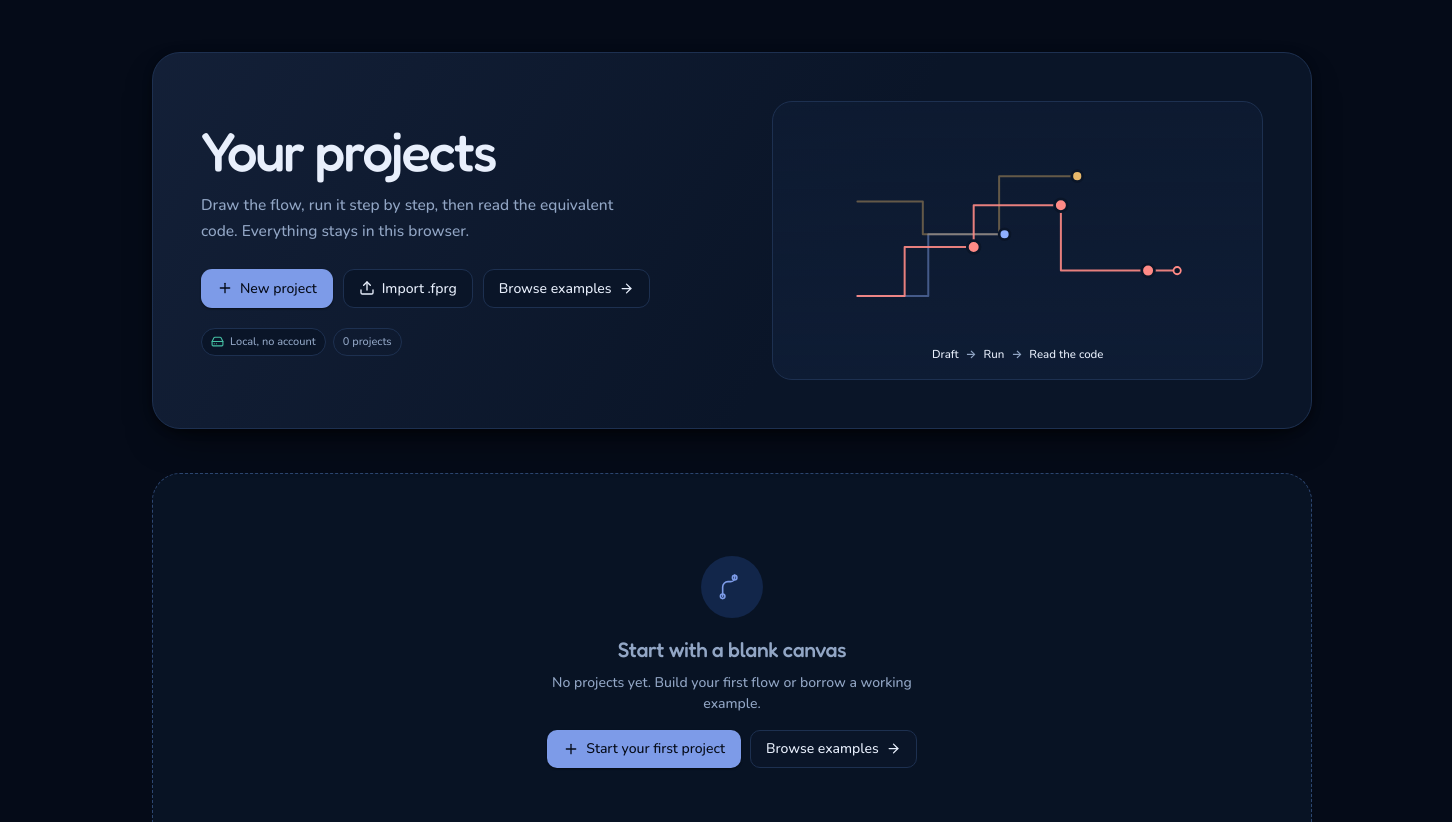
Test: shows an empty state and creates a project
This screenshot has width=1452, height=822.
Expected: the text "No projects yet" is shown, top-left (552, 673), bottom-right (912, 713)
Click the button "New project" at (267, 288), box top-left (201, 269), bottom-right (333, 308)
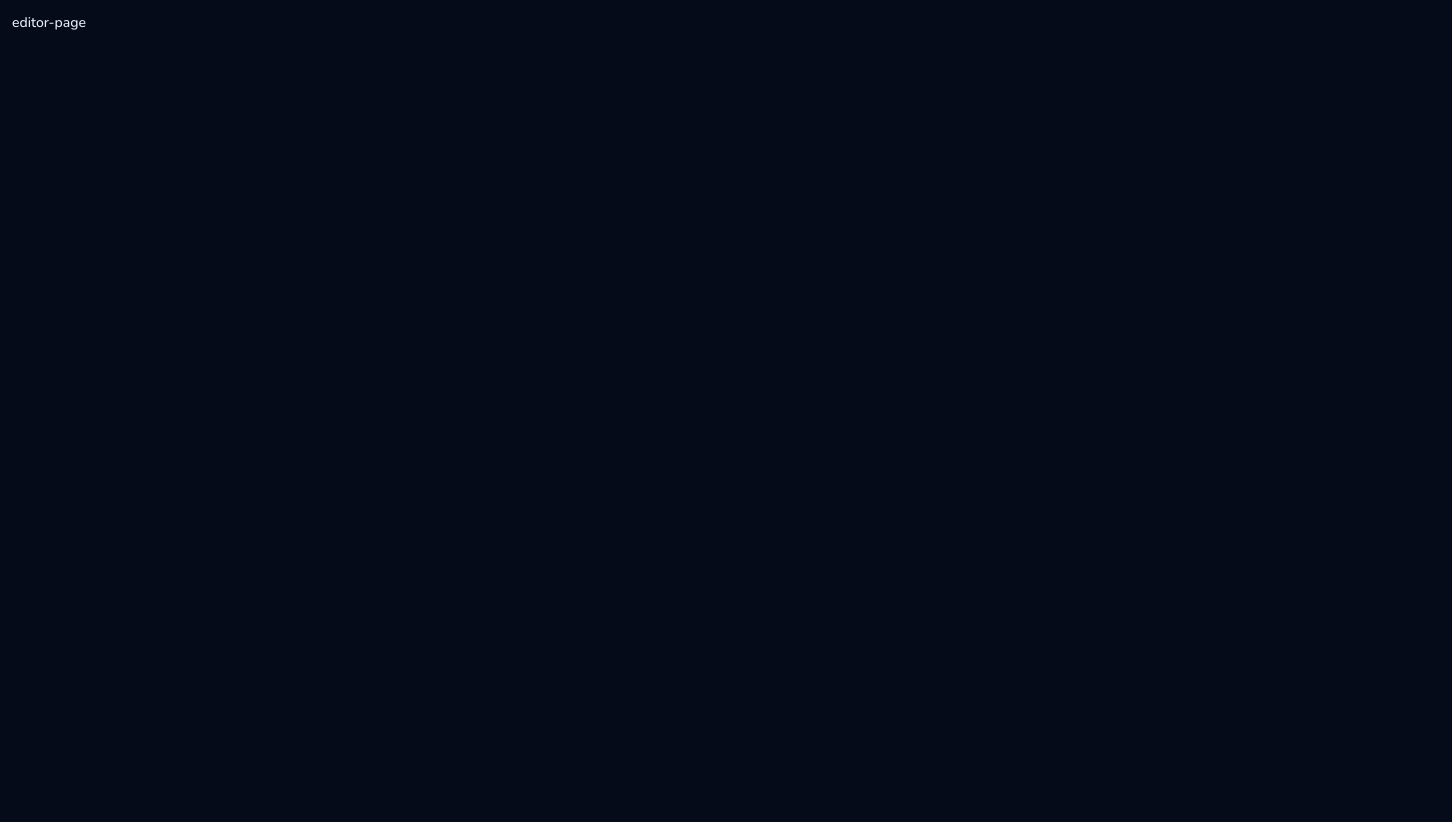
Now the text "editor-page" is shown, box top-left (12, 13), bottom-right (86, 32)
